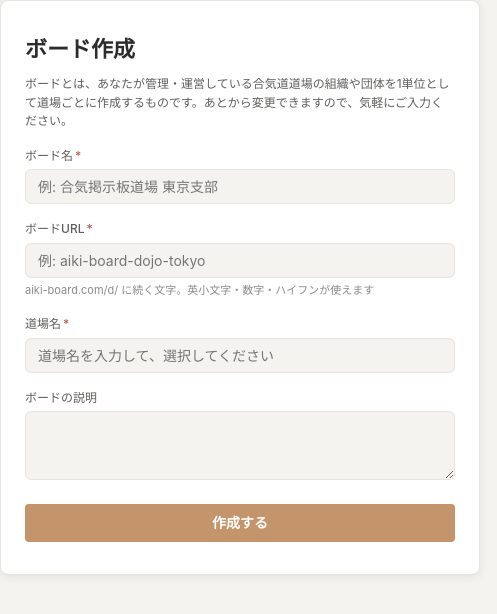
Test: BoardCreateForm › 道場が未選択だと submit せずエラーを表示する
Type "一般稽古" into the field labelled "ボード名*" at (240, 187), box [25,170,455,204]
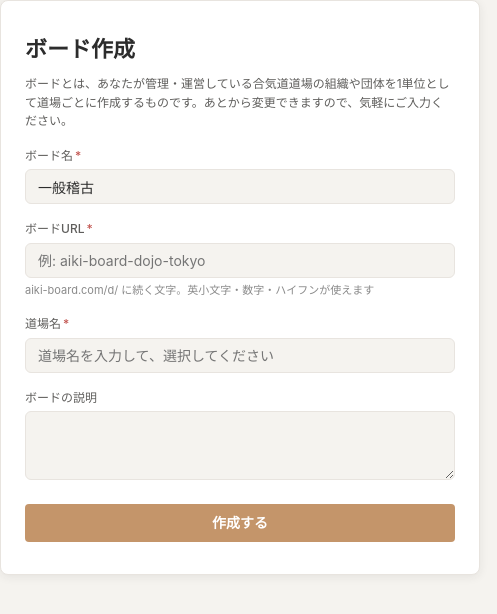
Type "warabi-general" into the field labelled "ボードURL*" at (240, 261), box [25,243,455,278]
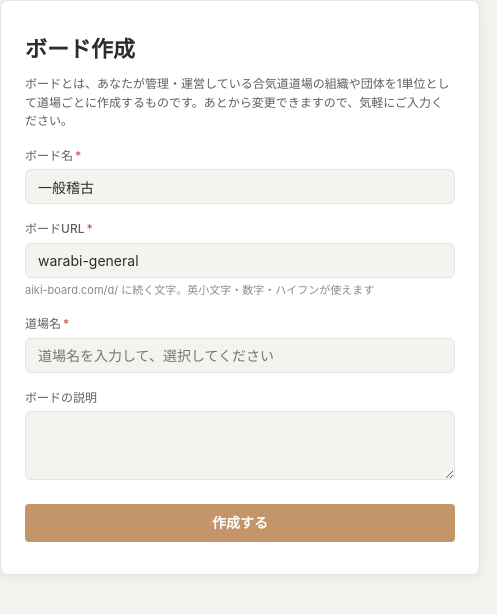
Click the button "作成する" at (240, 523), box [25,504,455,542]
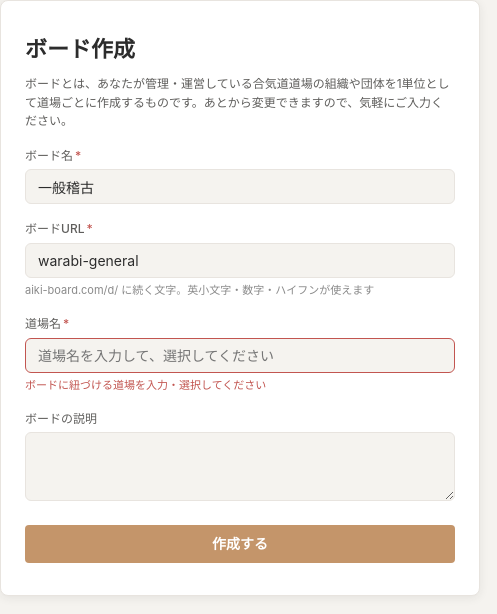
Expected: the text "ボードに紐づける道場を入力・選択してください" is shown, [25,378,266,392]
